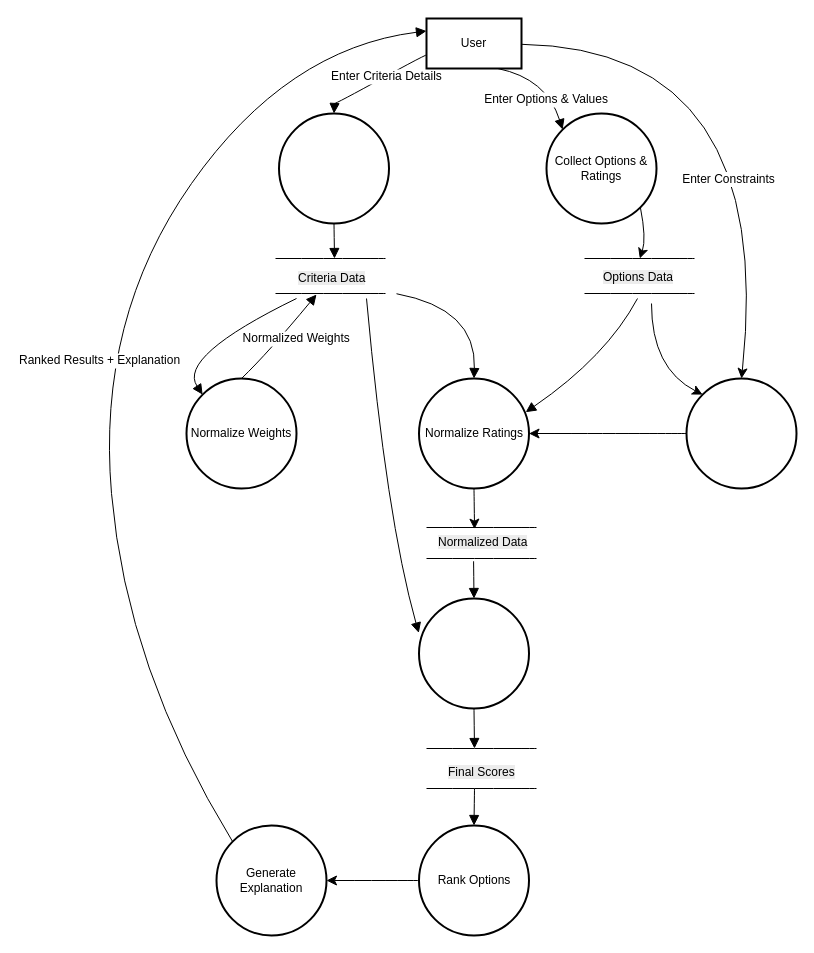
This 814x953 diagram has some shape labels left out. Here are the shapes that lost their labels. From the top down, the centre of each, then its label:
point 334,168: Collect Criteria
point 741,433: Filter Options with constraints
point 474,653: Compute Weighted Scores
